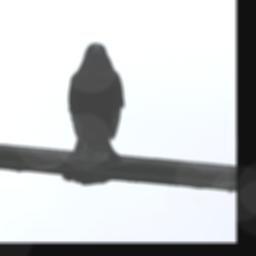Crow: (63, 42, 127, 186)
